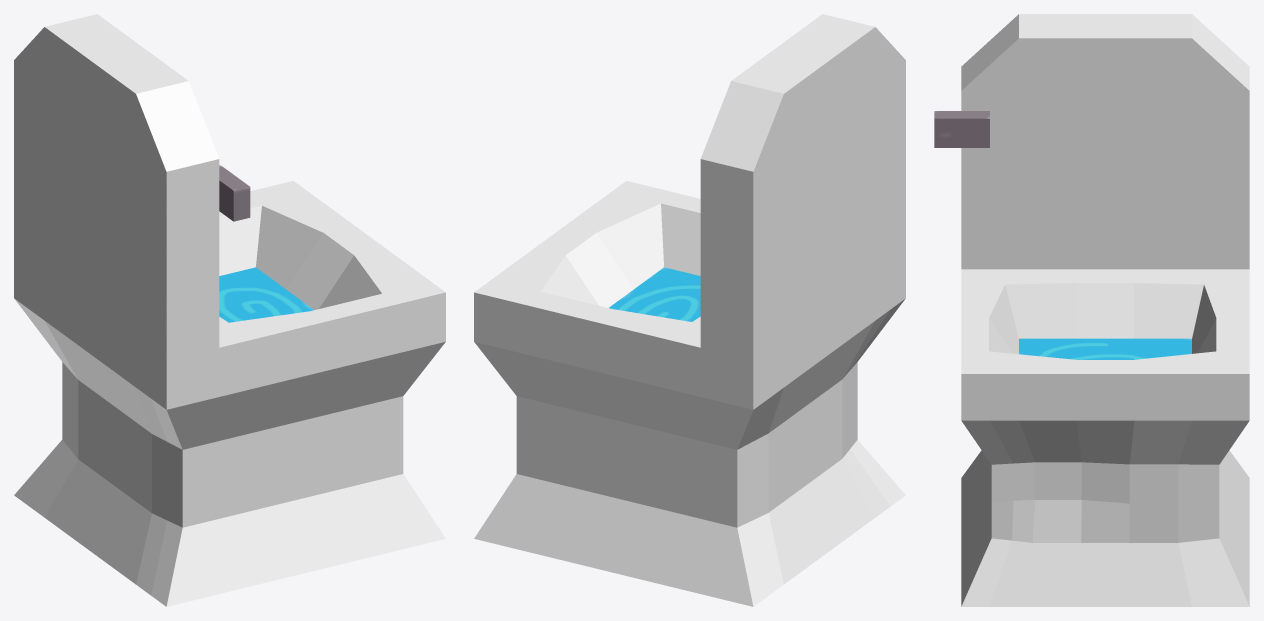
Rendered from toilet.fbx.
3 renders of one model, left to right at view 1: azimuth 30°, elevation 25°; view 2: azimuth 150°, elevation 25°; view 3: azimuth 270°, elevation 25°, orthographic. The views are drawn at different scales.
Parts seen in each view (by area): view 1: Toilet; view 2: Toilet; view 3: Toilet.
Part boxes in pixels (x1,y1,x2,y2): Toilet: (14, 14, 445, 606); Toilet: (474, 14, 905, 606); Toilet: (934, 14, 1249, 606).
Bounding box in the file's own units: 212 × 355 × 219.
